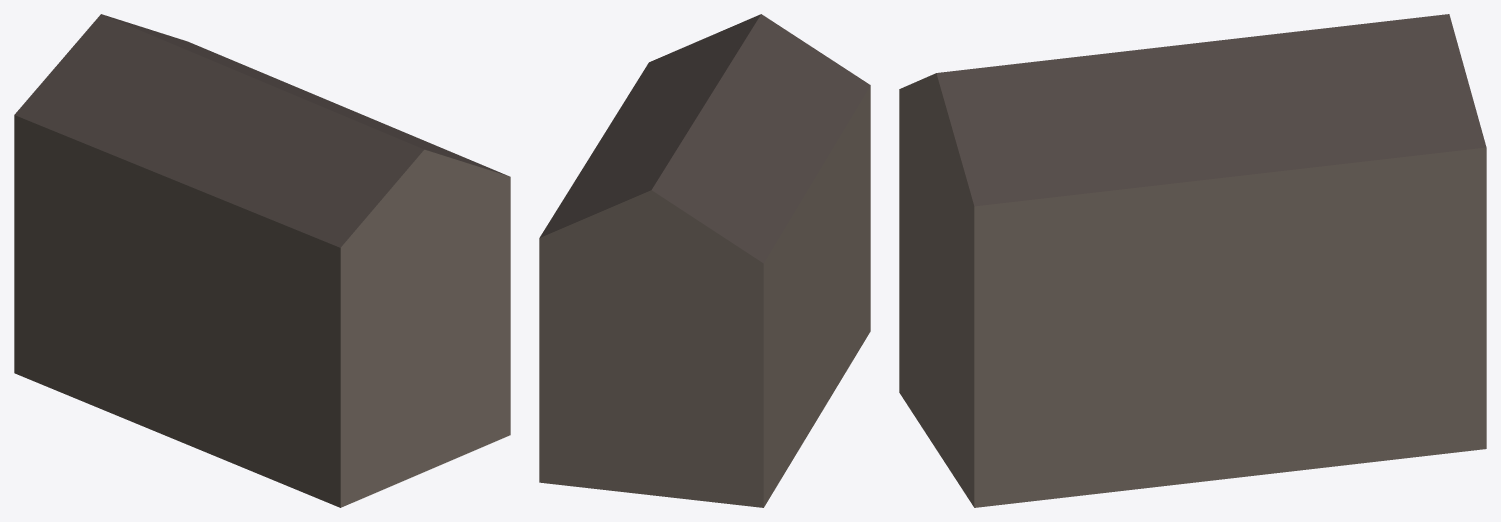
3 views of the same model, side by side, from view 1: azimuth 30°, elevation 25°; view 2: azimuth 150°, elevation 25°; view 3: azimuth 270°, elevation 25° (orthographic). The views are drawn at different scales.
Parts seen in each view (by area): view 1: HP-w1197842261; view 2: HP-w1197842261; view 3: HP-w1197842261.
Boxes of the visible parts, x1,y1,x2,y2 form: HP-w1197842261: [14, 14, 510, 507]; HP-w1197842261: [539, 14, 870, 507]; HP-w1197842261: [899, 14, 1486, 507].
Bounding box in the file's own units: 7.51 × 7.49 × 10.59.
